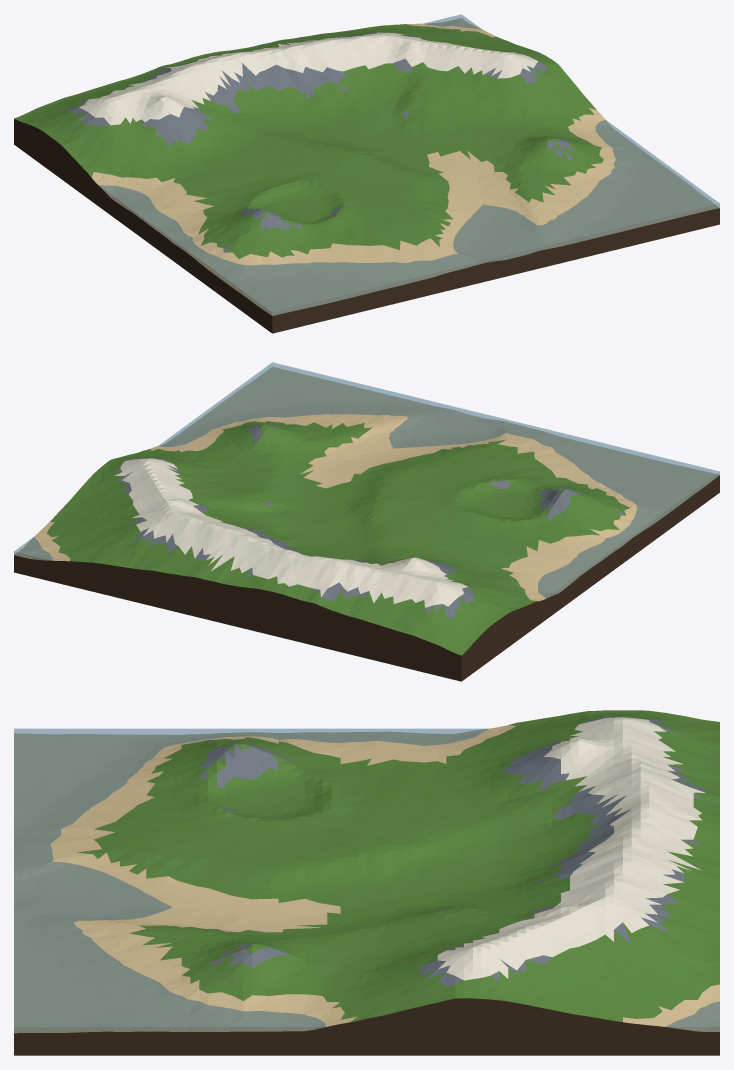
Rendered from mountain_trail.glb.
3 views of the same model, one above another, from view 1: azimuth 30°, elevation 25°; view 2: azimuth 150°, elevation 25°; view 3: azimuth 270°, elevation 25° (orthographic). The views are drawn at different scales.
Visible parts, largest first — view 1: mountain_trail; view 2: mountain_trail; view 3: mountain_trail.
Boxes of the visible parts, x1,y1,x2,y2 form: mountain_trail: (14,14,719,333); mountain_trail: (14,362,719,681); mountain_trail: (14,710,719,1055).
Bounding box in the file's own units: 400 × 53.94 × 400.
2 materials, 2 textured.
